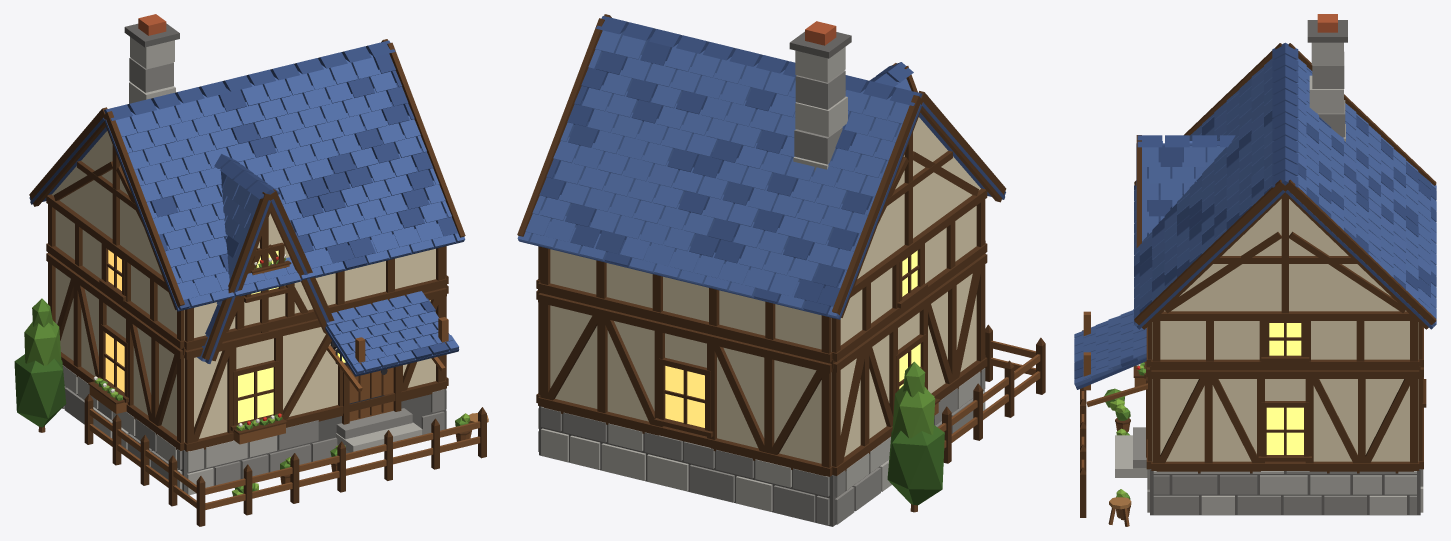
The model's file is Cottage_01_BlueSlate.fbx.
The picture shows the model from 3 angles, left to right: view 1: azimuth 30°, elevation 25°; view 2: azimuth 150°, elevation 25°; view 3: azimuth 270°, elevation 25°; orthographic projection. The views are drawn at different scales.
Parts seen in each view (by area): view 1: Cottage_01_BlueSlate_LOD0; view 2: Cottage_01_BlueSlate_LOD0; view 3: Cottage_01_BlueSlate_LOD0.
Part boxes in pixels (x1,y1,x2,y2): Cottage_01_BlueSlate_LOD0: (14,14,488,526); Cottage_01_BlueSlate_LOD0: (517,14,1045,526); Cottage_01_BlueSlate_LOD0: (1074,14,1436,526).
Size of what is drawn, in the model's own units: 7.65 by 8.24 by 6.81.
